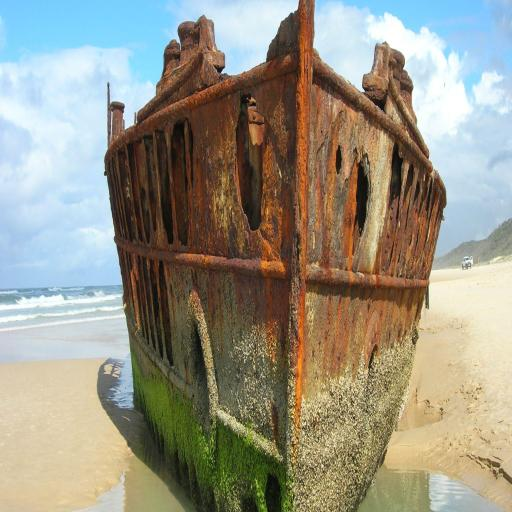segmentation: (105, 0, 447, 512)
